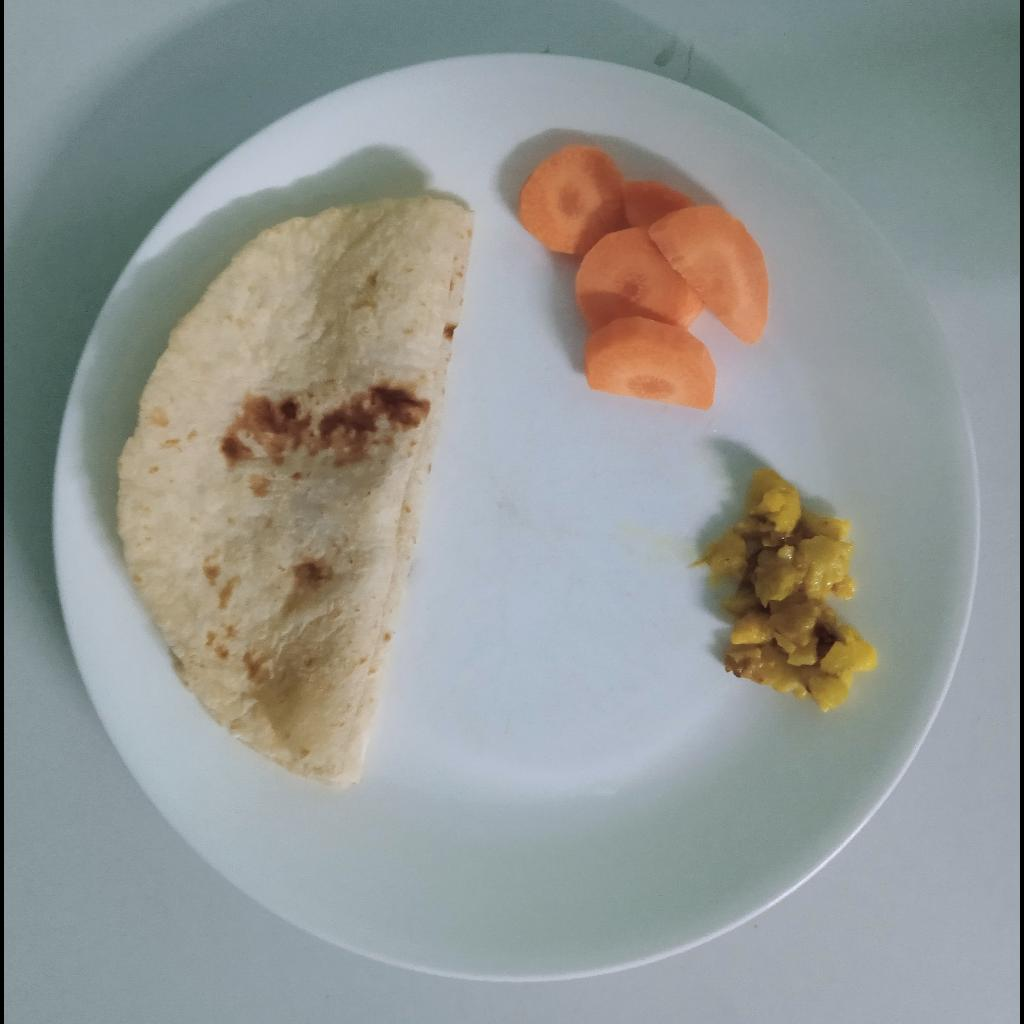carrot: (520, 147, 770, 410)
kumra-vaji: (707, 469, 881, 712)
ruti: (117, 196, 477, 786)
